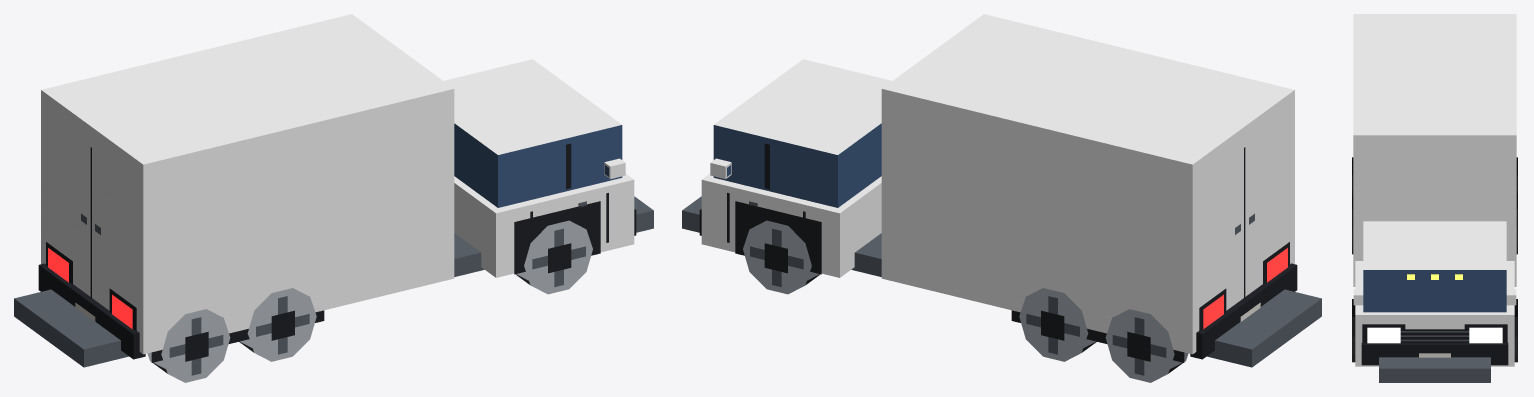
The model's file is truck_box.glb.
3 views of the same model, side by side, from view 1: azimuth 30°, elevation 25°; view 2: azimuth 150°, elevation 25°; view 3: azimuth 270°, elevation 25° (orthographic). The views are drawn at different scales.
Visible parts, largest first — view 1: truck_box; view 2: truck_box; view 3: truck_box.
Part boxes in pixels (x1,y1,x2,y2): truck_box: [14, 14, 653, 382]; truck_box: [682, 14, 1321, 382]; truck_box: [1352, 14, 1517, 382].
Size of the model in its own units: 0.66 by 0.252 by 0.2124.
